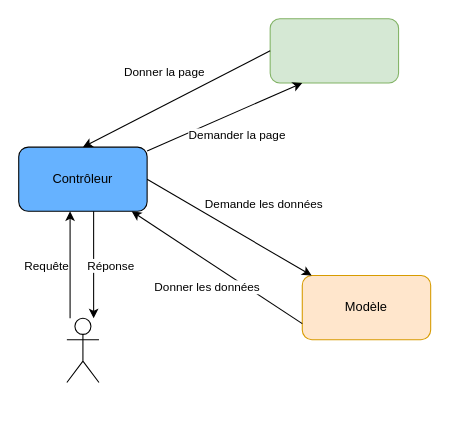
Image size: 449x424. Some labels were removed from this diagram. Here are the shapes that lost their labels. From the top down, the box of each, then its label:
(269, 18, 399, 83): Vue
(66, 317, 99, 383): Client
